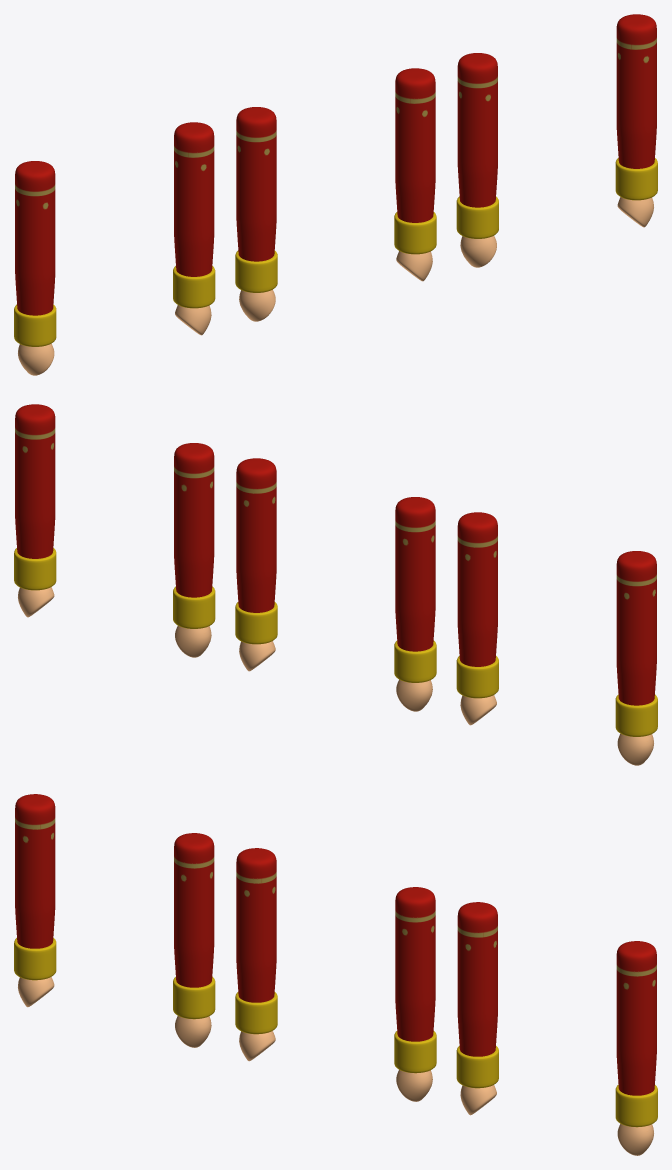
File: brazos.obj
The picture shows the model from 3 angles, top to bottom: view 1: azimuth 30°, elevation 25°; view 2: azimuth 150°, elevation 25°; view 3: azimuth 330°, elevation 25°; orthographic projection.
Parts seen in each view (by area): view 1: Nutcraker, Nutcraker002, Nutcraker001; view 2: Nutcraker, Nutcraker002, Nutcraker001; view 3: Nutcraker002, Nutcraker, Nutcraker001.
Boxes of the visible parts, bbox=[...] form: Nutcraker: bbox=[235, 68, 436, 321]; Nutcraker002: bbox=[456, 14, 657, 267]; Nutcraker001: bbox=[14, 122, 215, 375]; Nutcraker: bbox=[235, 458, 436, 711]; Nutcraker002: bbox=[14, 404, 215, 657]; Nutcraker001: bbox=[456, 512, 657, 765]; Nutcraker002: bbox=[456, 902, 657, 1155]; Nutcraker: bbox=[235, 848, 436, 1101]; Nutcraker001: bbox=[14, 794, 215, 1047].
Bounding box in the file's own units: 21.64 × 6.69 × 1.25.
Materials: 1 (1 with a texture image).
